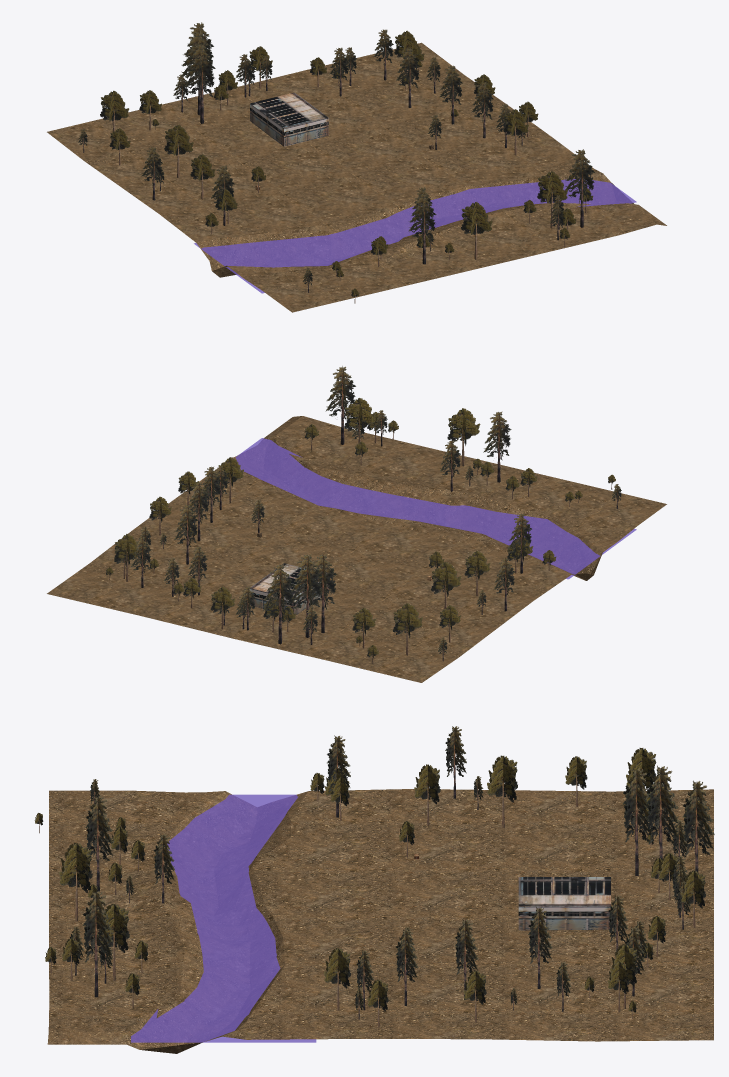
File: Waterland.scene.glb
The picture shows the model from 3 angles, top to bottom: view 1: azimuth 30°, elevation 25°; view 2: azimuth 150°, elevation 25°; view 3: azimuth 270°, elevation 25°; orthographic projection. The views are drawn at different scales.
Visible parts, largest first — view 1: Lendscape, Water, Build_@Static, Tree_Copy_0021, Tree_Copy_0064, Tree_Copy_0052, Tree_Copy_0053, Tree_Copy_0061, Tree_Copy_0042, Tree_Copy_0004, Tree_Copy_0005, Tree_Copy_0020 (+6 smaller); view 2: Lendscape, Water, Build_@Static, Tree_Copy_0005, Tree_Copy_0023, Tree_Copy_0064, Tree_Copy_0052, Tree_Copy_0021, Tree_Copy_0053, Tree_Copy_0061, Tree_Copy_0042, Tree_Copy_0004 (+7 smaller); view 3: Lendscape, Water, Build_@Static, Tree_Copy_0005, Tree_Copy_0023, Tree_Copy_0021, Tree_Copy_0064, Tree_Copy_0052, Tree_Copy_0053, Tree_Copy_0042, Tree_Copy_0020, Tree_Copy_0061 (+16 smaller).
Boxes of the visible parts, x1,y1,x2,y2 form: Lendscape: (47,42,666,312); Water: (194,178,636,293); Build_@Static: (250,92,328,146); Tree_Copy_0021: (184,44,215,123); Tree_Copy_0064: (565,149,595,227); Tree_Copy_0052: (408,193,436,264); Tree_Copy_0053: (461,202,492,259); Tree_Copy_0061: (537,171,567,228); Tree_Copy_0042: (164,124,193,177); Tree_Copy_0004: (100,90,129,140); Tree_Copy_0005: (181,31,213,115); Tree_Copy_0020: (396,48,419,107); Lendscape: (47,416,666,682); Water: (235,438,636,579); Build_@Static: (250,563,328,614); Tree_Copy_0005: (289,554,322,637); Tree_Copy_0023: (262,563,294,644); Tree_Copy_0064: (325,366,355,444); Tree_Copy_0052: (483,411,511,482); Tree_Copy_0021: (305,554,336,633); Tree_Copy_0053: (447,408,480,466); Tree_Copy_0061: (344,398,375,455); Tree_Copy_0042: (431,562,461,609); Tree_Copy_0004: (393,603,422,655); Lendscape: (47,789,713,1053); Water: (131,794,316,1042); Build_@Static: (518,877,610,930); Tree_Copy_0005: (646,765,679,879); Tree_Copy_0023: (682,780,714,872); Tree_Copy_0021: (623,768,653,875); Tree_Copy_0064: (82,890,113,997); Tree_Copy_0052: (85,795,113,891); Tree_Copy_0053: (59,842,92,921); Tree_Copy_0042: (487,755,517,827); Tree_Copy_0020: (528,907,552,988); Tree_Copy_0061: (97,903,129,981).
Size of the model in its own units: 150 by 34.1 by 151.
8 materials, 6 textured.
